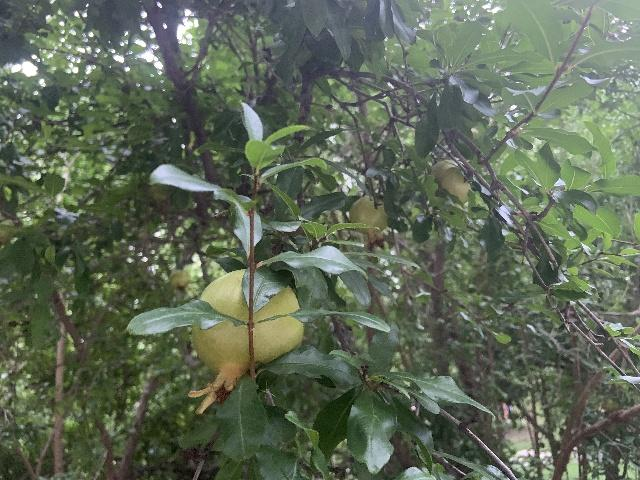mid-growth: (187, 267, 303, 413), (349, 196, 389, 251), (432, 160, 471, 215), (170, 269, 189, 292)
